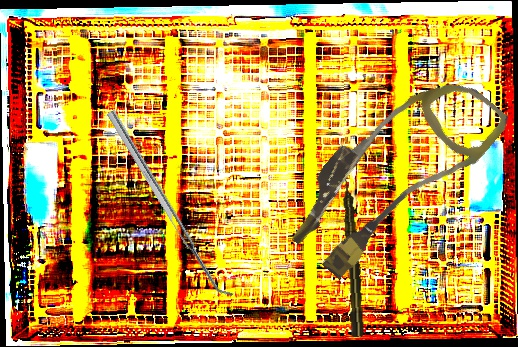Cannula: (274, 46, 513, 299)
Handpiece: (339, 177, 366, 338)
Spatula Surgical: (106, 105, 235, 303)
